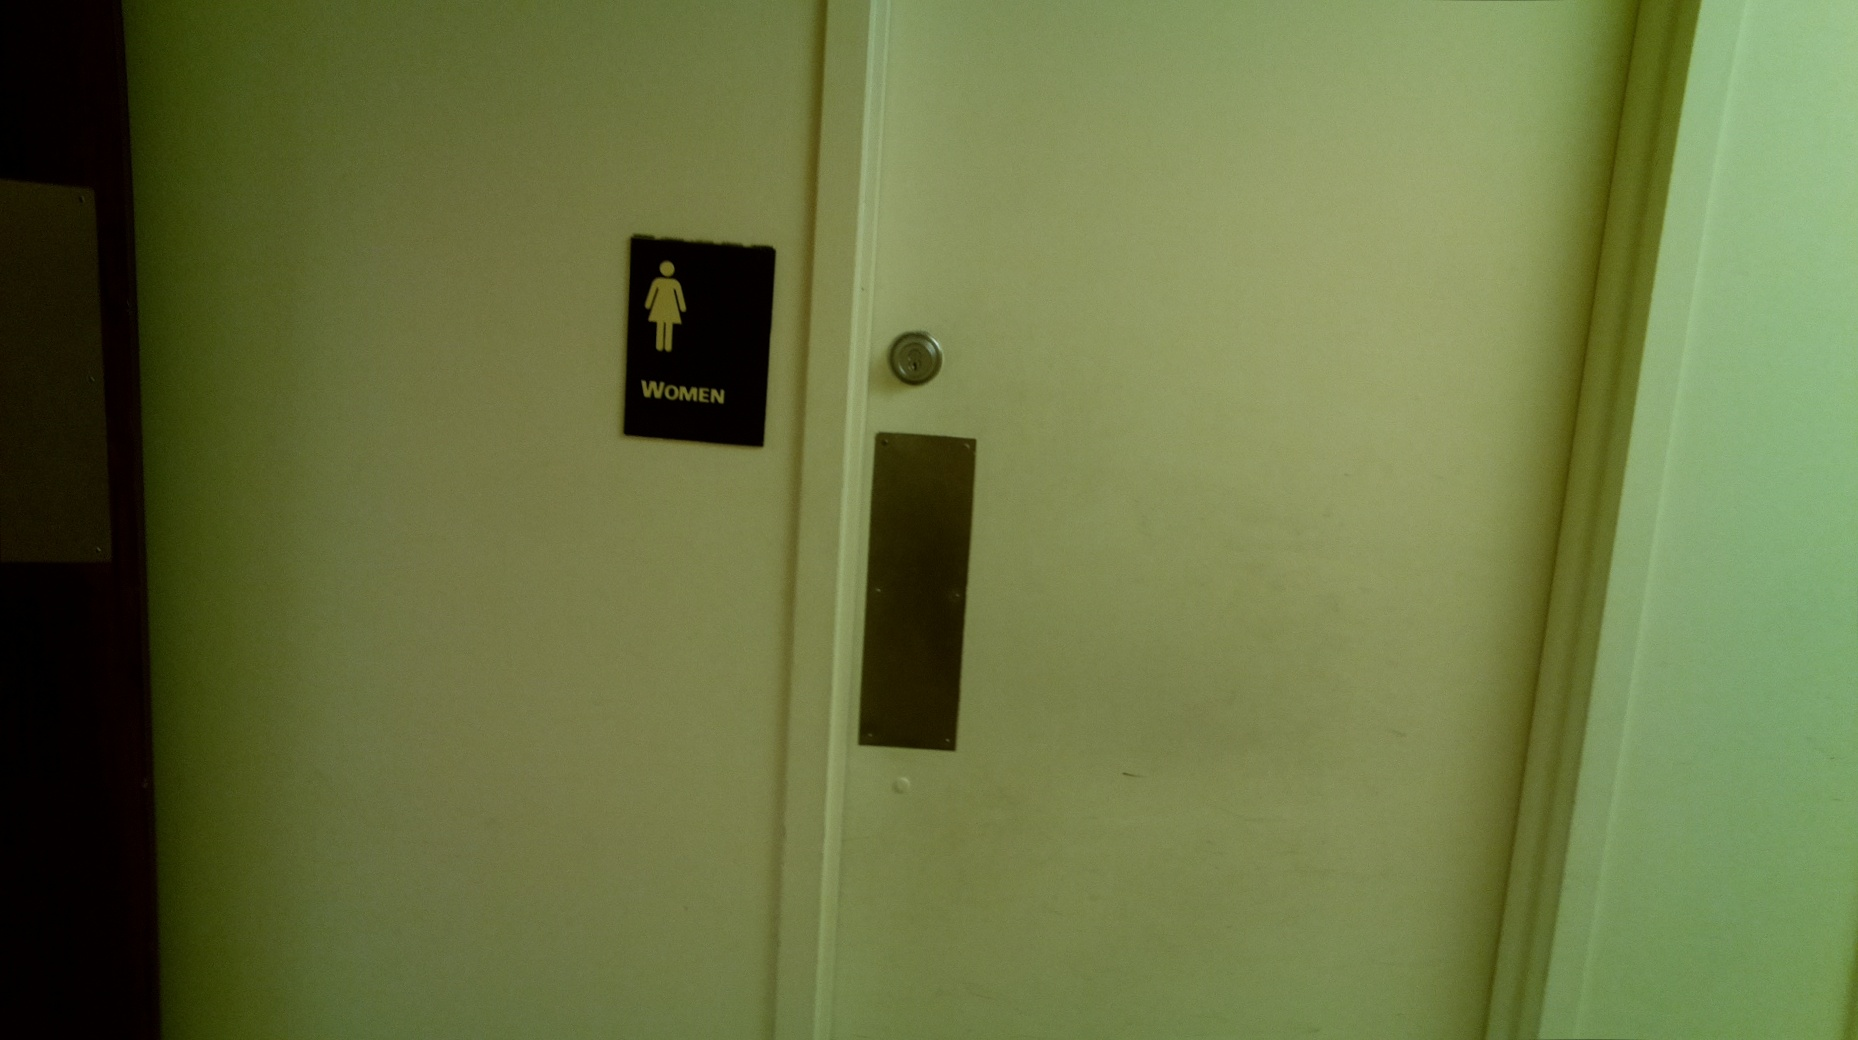bathroom sign: (615, 226, 784, 456)
